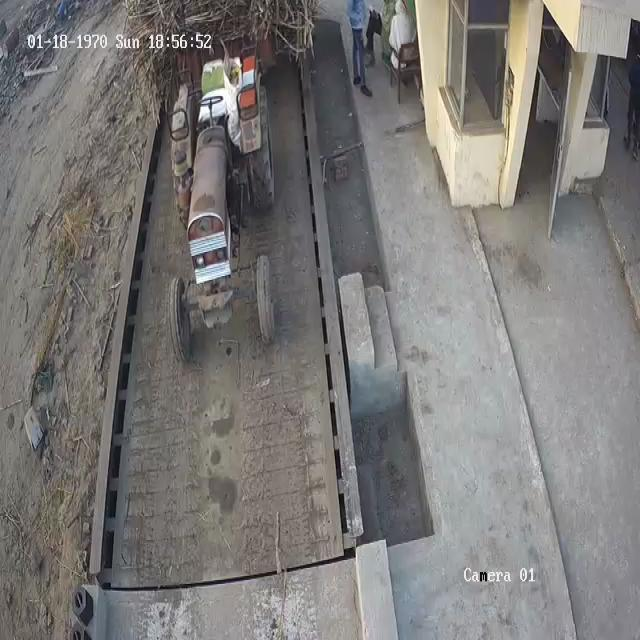Tratores - v5 YOLO V8L 2024-11-13: (162, 52, 281, 364)
